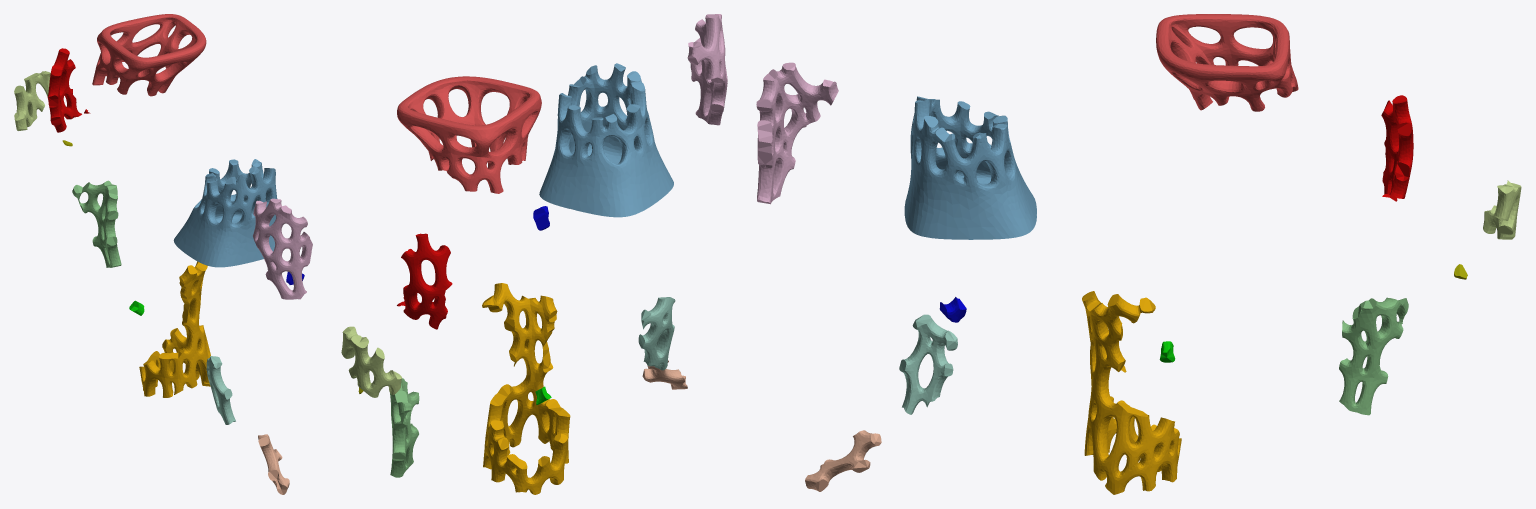
File: fractured_69_12pcs_transformed.glb
The picture shows the model from 3 angles, left to right: view 1: azimuth 30°, elevation 25°; view 2: azimuth 150°, elevation 25°; view 3: azimuth 270°, elevation 25°; orthographic projection. The views are drawn at different scales.
Parts seen in each view (by area): view 1: piece_2.obj, piece_1.obj, piece_0.obj, piece_6.obj, piece_3.obj, piece_9.obj, piece_5.obj, piece_4.obj, piece_7.obj; view 2: piece_2.obj, piece_0.obj, piece_1.obj, piece_6.obj, piece_9.obj, piece_5.obj, piece_3.obj, piece_4.obj, piece_7.obj; view 3: piece_2.obj, piece_0.obj, piece_1.obj, piece_6.obj, piece_3.obj, piece_4.obj, piece_9.obj, piece_7.obj, piece_5.obj.
Part boxes in pixels (x1,y1,x2,y2): piece_2.obj: [173, 159, 277, 267]; piece_1.obj: [92, 14, 206, 96]; piece_0.obj: [139, 261, 210, 397]; piece_6.obj: [253, 198, 312, 299]; piece_3.obj: [72, 180, 121, 267]; piece_9.obj: [47, 48, 90, 132]; piece_5.obj: [14, 71, 50, 130]; piece_4.obj: [206, 356, 235, 424]; piece_7.obj: [258, 434, 289, 494]; piece_2.obj: [539, 63, 673, 217]; piece_0.obj: [482, 283, 570, 494]; piece_1.obj: [397, 76, 541, 193]; piece_6.obj: [687, 14, 727, 125]; piece_9.obj: [397, 233, 452, 329]; piece_5.obj: [341, 326, 401, 397]; piece_3.obj: [390, 378, 419, 477]; piece_4.obj: [638, 297, 675, 370]; piece_7.obj: [642, 360, 687, 389]; piece_2.obj: [904, 96, 1036, 239]; piece_0.obj: [1082, 291, 1181, 494]; piece_1.obj: [1156, 14, 1298, 111]; piece_6.obj: [756, 62, 838, 204]; piece_3.obj: [1339, 297, 1408, 415]; piece_4.obj: [899, 314, 957, 414]; piece_9.obj: [1381, 95, 1413, 201]; piece_7.obj: [805, 430, 881, 491]; piece_5.obj: [1483, 180, 1521, 239].
Bounding box in the file's own units: 0.4636 × 1.39 × 2.07.
